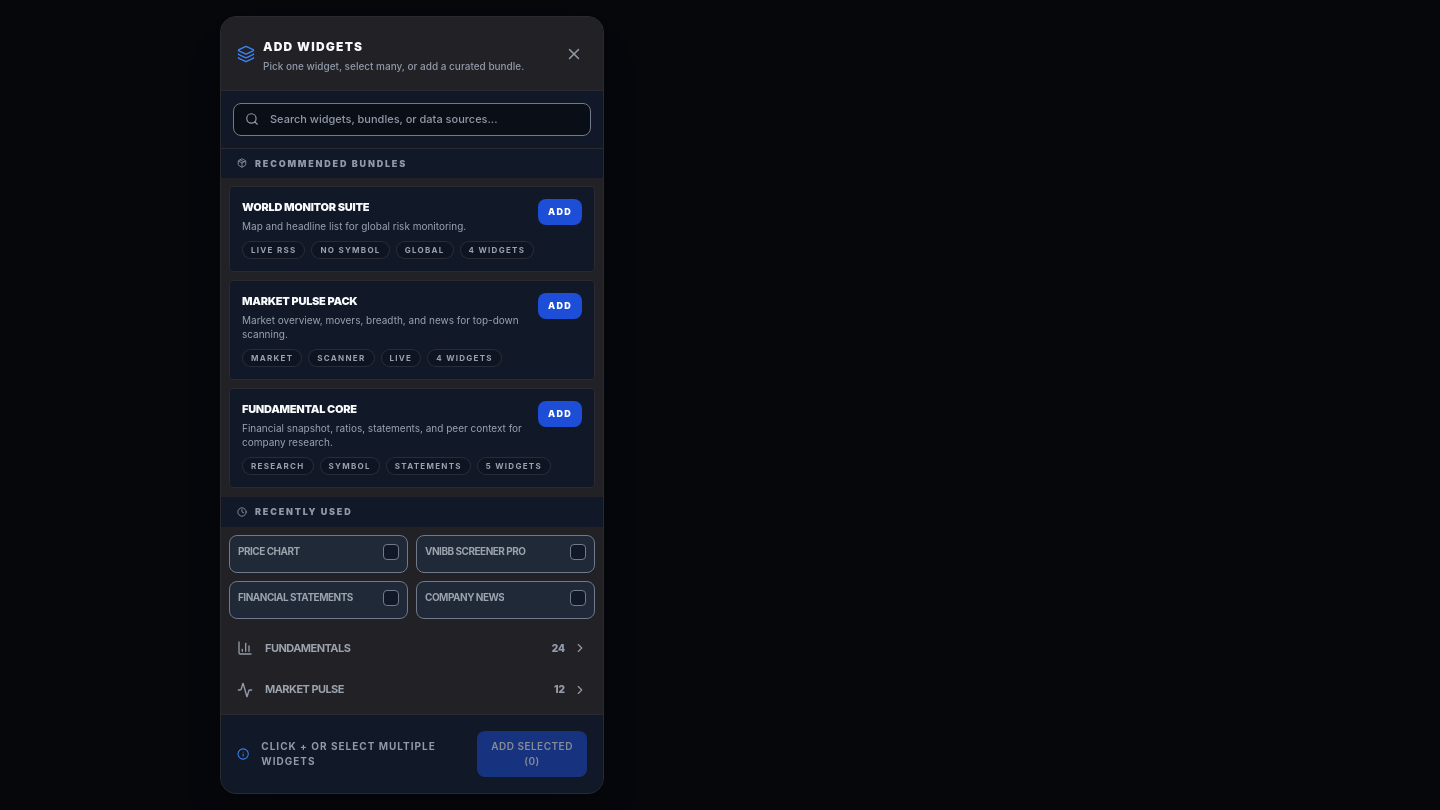
Test: WidgetLibrary modal containment › keeps a read-only workspace non-insertable and clears the selection when dismissed
Earlier steps of the test are not shown.
Click the checkbox named "Select ": (391, 552) [383,544,399,560]
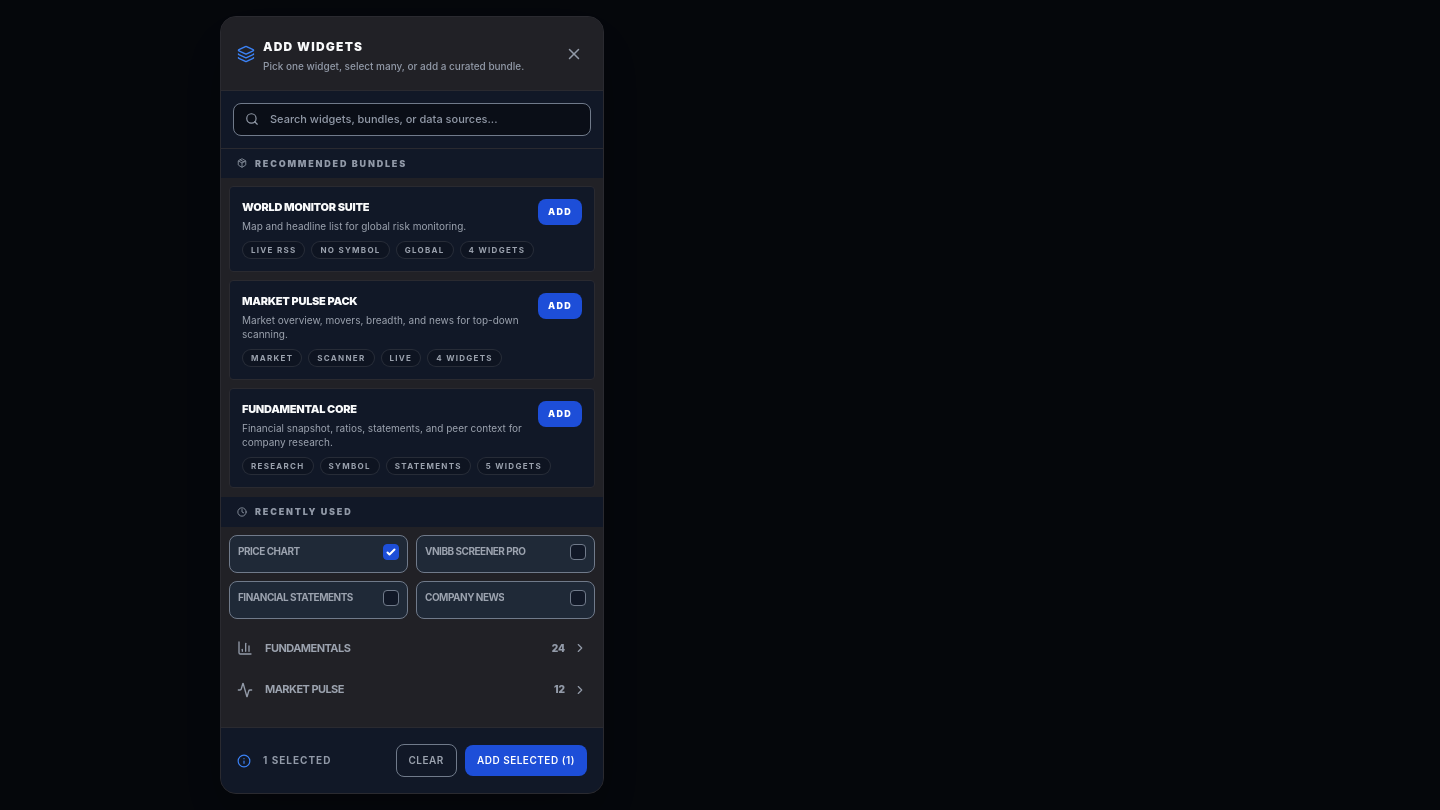
Now the text "1 selected" is shown, box [263,753,331,768]
